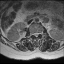CCS_normal: (35, 30, 37, 39)
LFS_stenosis: (39, 30, 41, 36)
LLS_normal: (37, 30, 39, 37)
RFS_normal: (31, 30, 33, 37)
RLS_normal: (33, 30, 35, 37)
